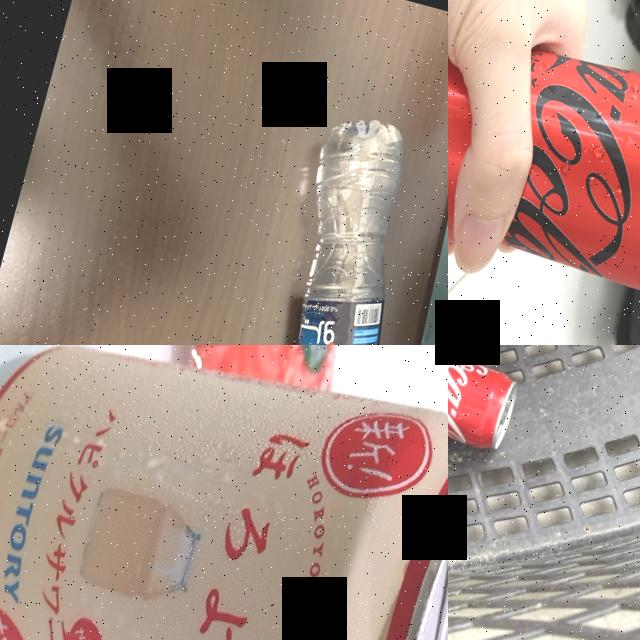bottle: (225, 106, 441, 345)
can: (0, 345, 448, 640), (448, 0, 640, 305), (448, 345, 523, 461)
